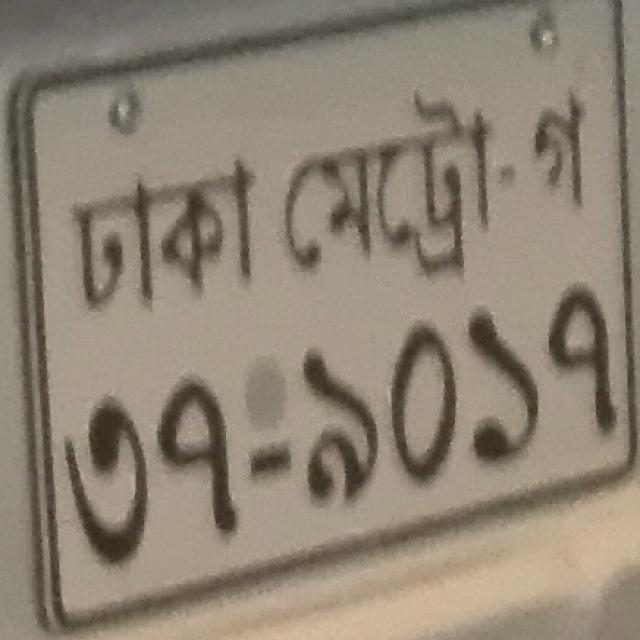numberplate: (2, 0, 637, 635)
